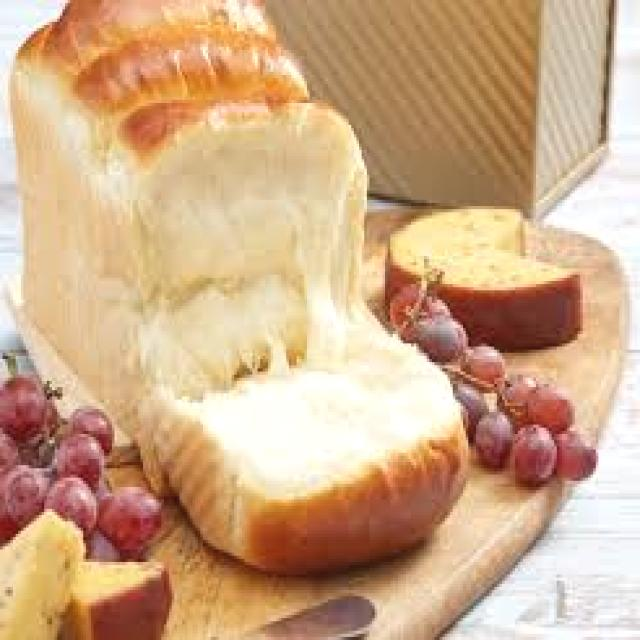organic: (44, 11, 341, 402), (405, 215, 580, 336)
